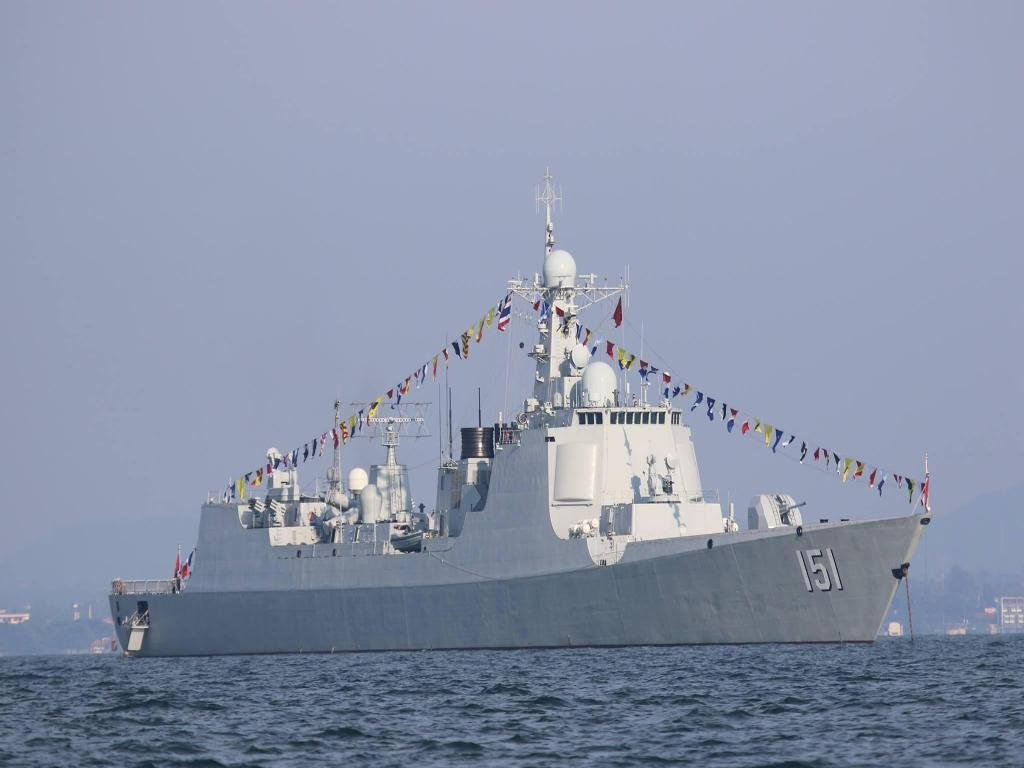Warship: (102, 172, 926, 664)
